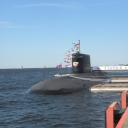submarine: (28, 42, 111, 96)
